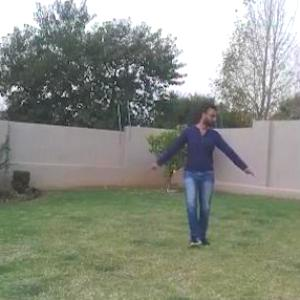land: (137, 89, 268, 263)
